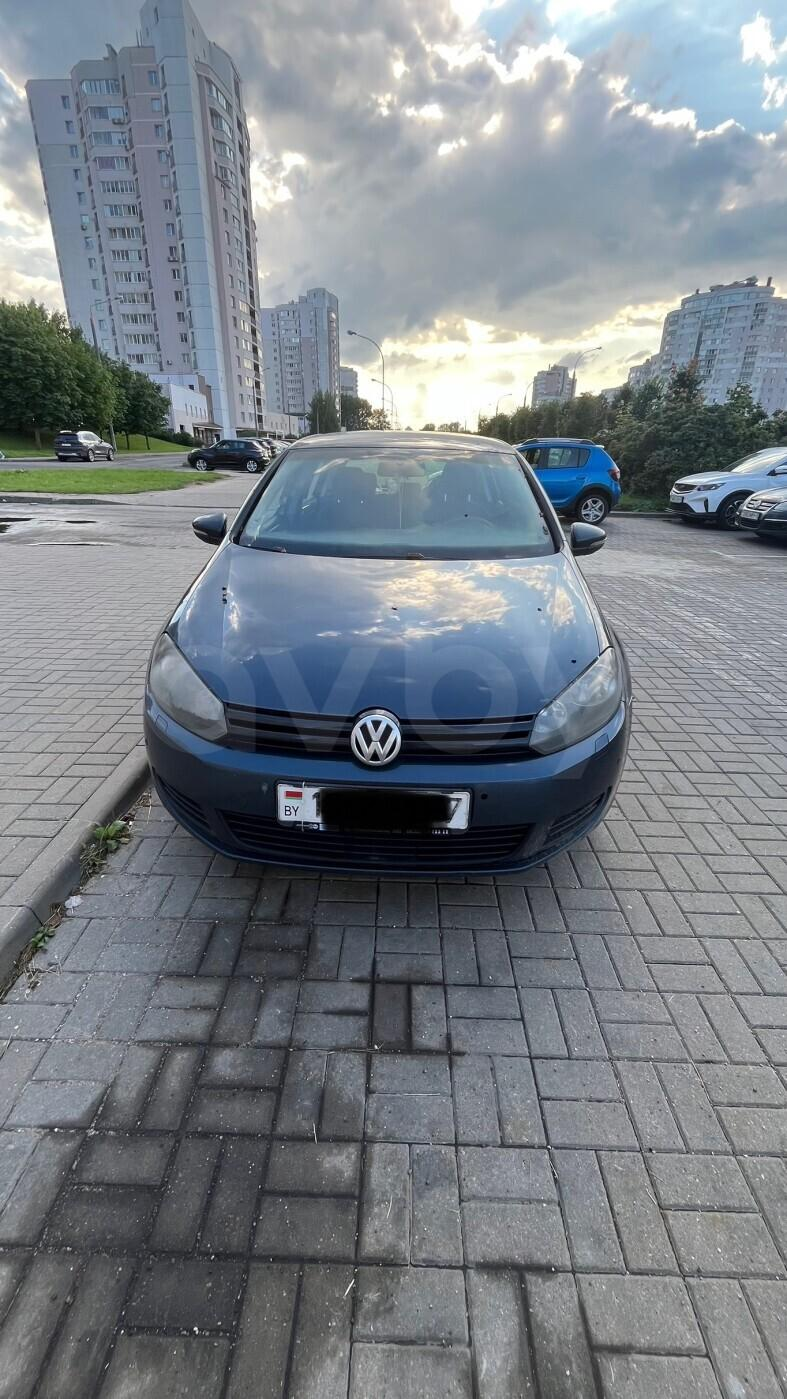Golf_2008-2013: (135, 426, 630, 874)
